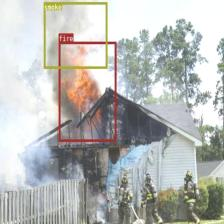fire: (59, 41, 116, 141)
smoke: (43, 2, 107, 68)
